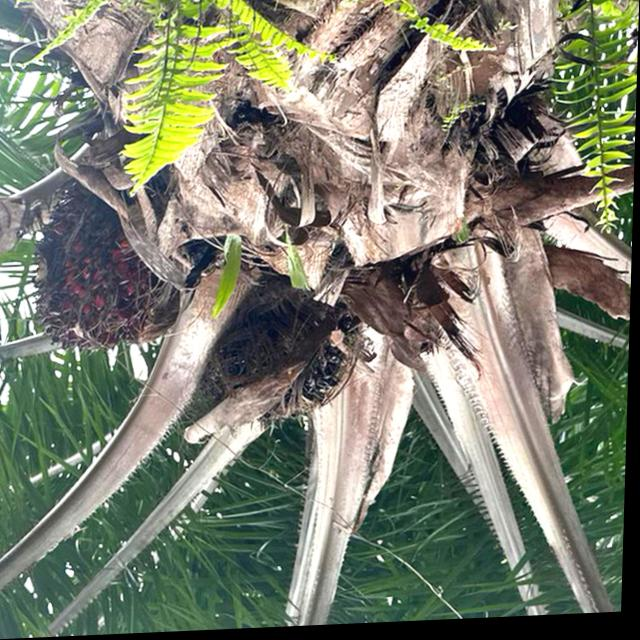unripe: (24, 177, 180, 358), (204, 286, 356, 419)
